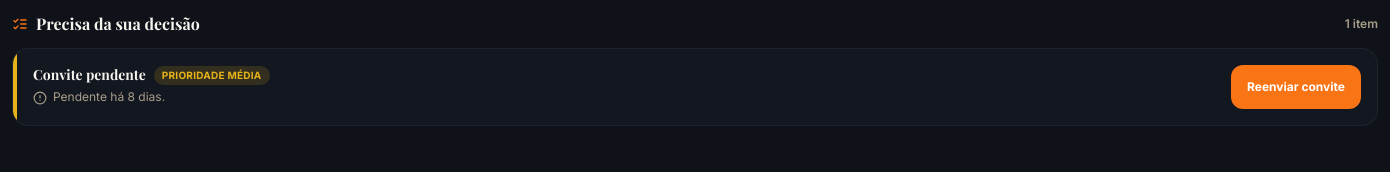
it: DecisionQueue com ações que alteram dados › declara que nada foi alterado quando a ação falha, e mantém o item
Click the button with test id "decision-mutation-button" at (1296, 87), box [1231,65,1361,109]
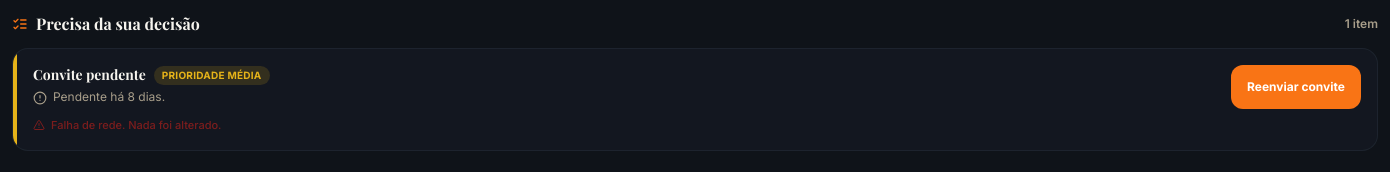
Expected: the heading "Convite pendente" is shown, [33,65,146,85]
Expected: the message with test id "decision-outcome-failed" shows "Nada foi alterado", [51,118,222,132]
